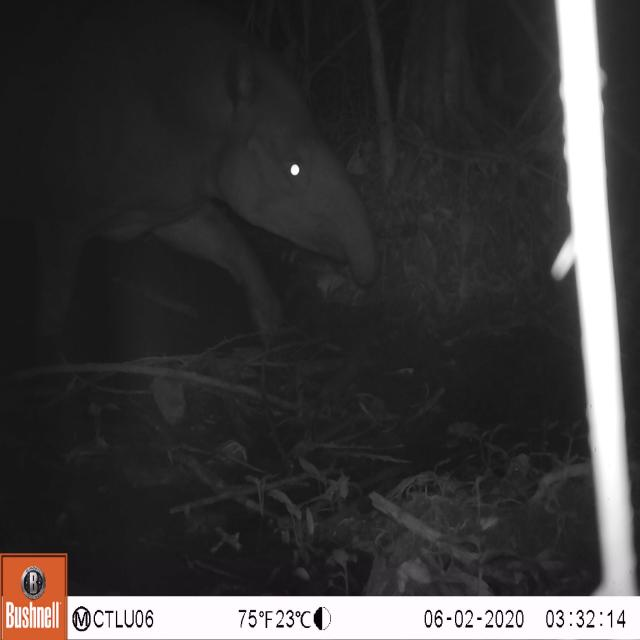Lowland Tapir: (0, 1, 390, 357)
